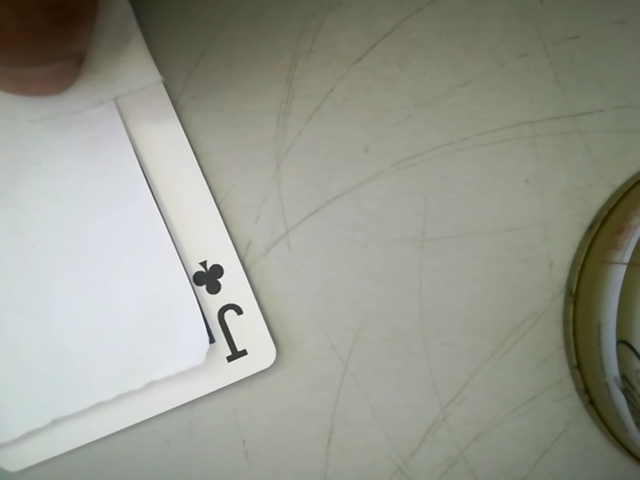mh j: (175, 245, 263, 373)
